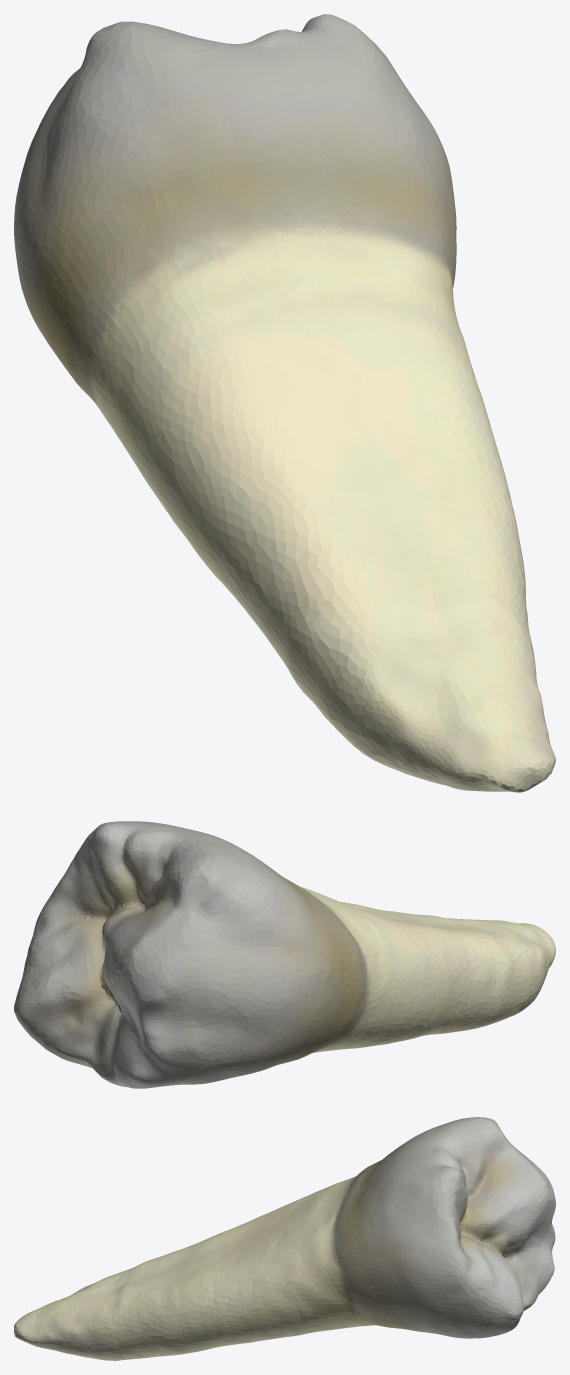
The model's file is 35 - segundo premolar inferior esquerdo.glb.
3 views of the same model, one above another, from view 1: azimuth 30°, elevation 25°; view 2: azimuth 150°, elevation 25°; view 3: azimuth 270°, elevation 25° (orthographic). The views are drawn at different scales.
Parts seen in each view (by area): view 1: 3MFMeshParent_0; view 2: 3MFMeshParent_0; view 3: 3MFMeshParent_0.
Part boxes in pixels (<box>): 3MFMeshParent_0: <box>14,14,555,792</box>; 3MFMeshParent_0: <box>14,821,555,1088</box>; 3MFMeshParent_0: <box>14,1117,555,1360</box>.
Size of the model in its own units: 0.2341 by 0.2556 by 0.512.
Materials: 1 (1 with a texture image).
